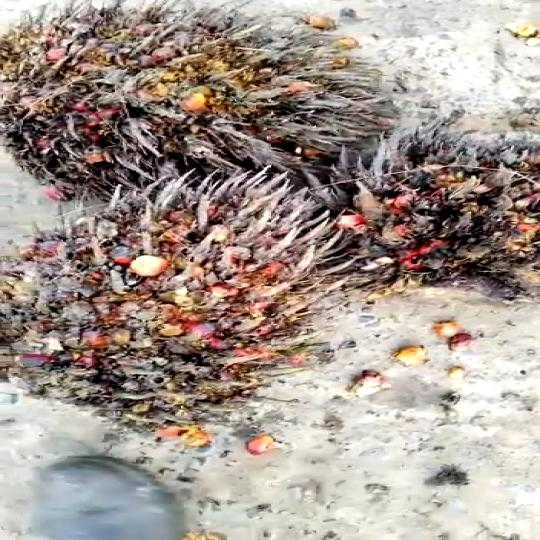terlalu masak: (0, 170, 375, 436), (0, 0, 420, 174), (299, 117, 540, 288)
